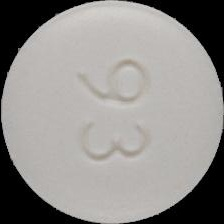0093-5141: (0, 0, 224, 224)
